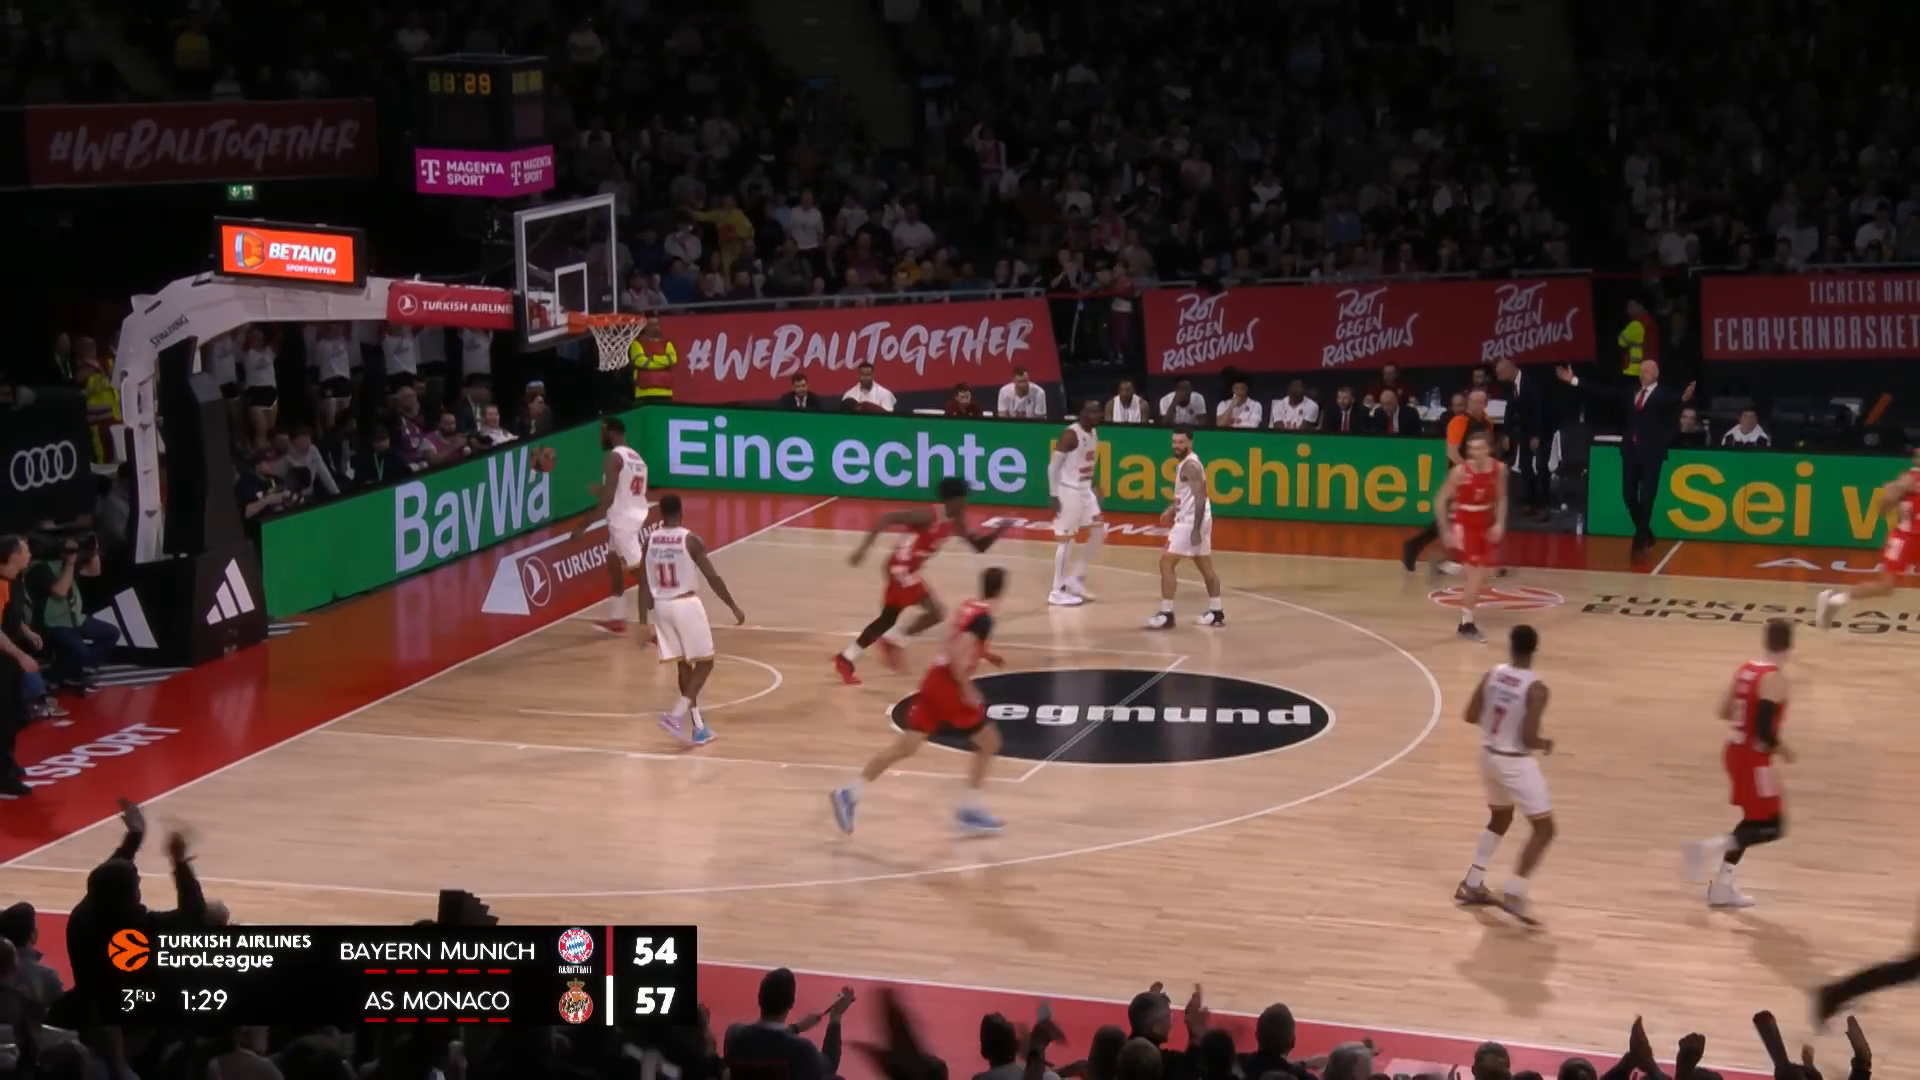ball: (526, 440, 560, 477)
net: (585, 311, 651, 375)
